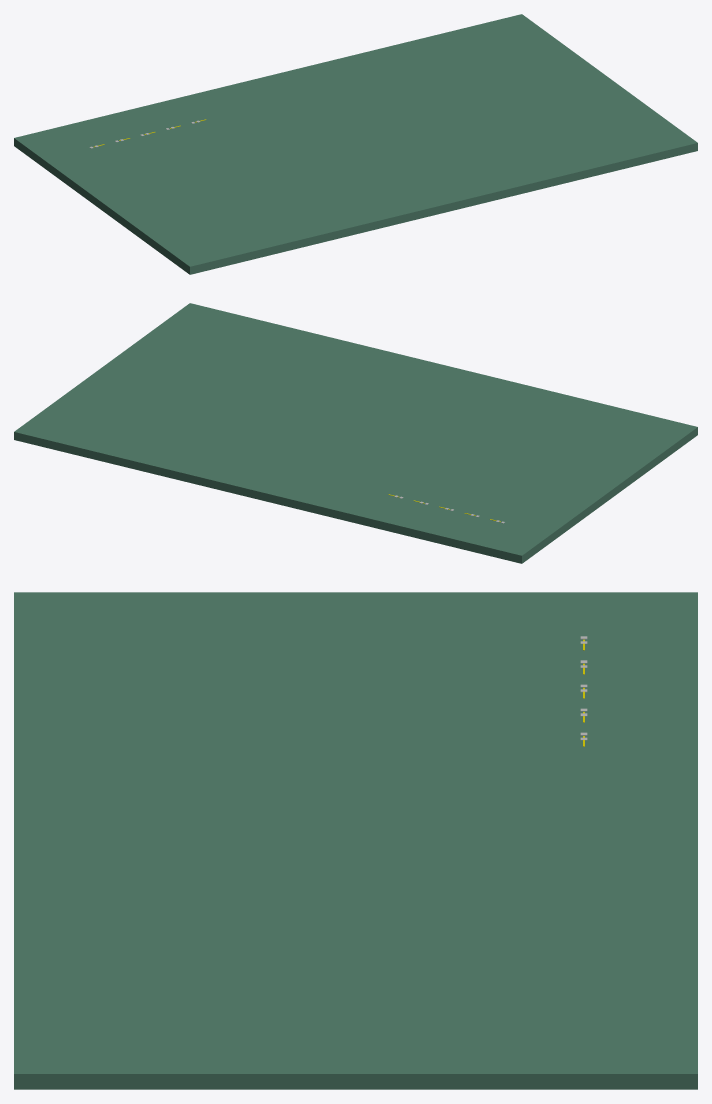
The model's file is board.glb.
The picture shows the model from 3 angles, top to bottom: view 1: azimuth 30°, elevation 25°; view 2: azimuth 150°, elevation 25°; view 3: azimuth 270°, elevation 25°; orthographic projection. The views are drawn at different scales.
Visible parts, largest first — view 1: board_PCB; view 2: board_PCB; view 3: board_PCB.
Part boxes in pixels (x1,y1,x2,y2): board_PCB: (14,14,697,274); board_PCB: (14,303,697,563); board_PCB: (14,592,697,1089).
Bounding box in the file's own units: 0.1 × 0.00157 × 0.06.
